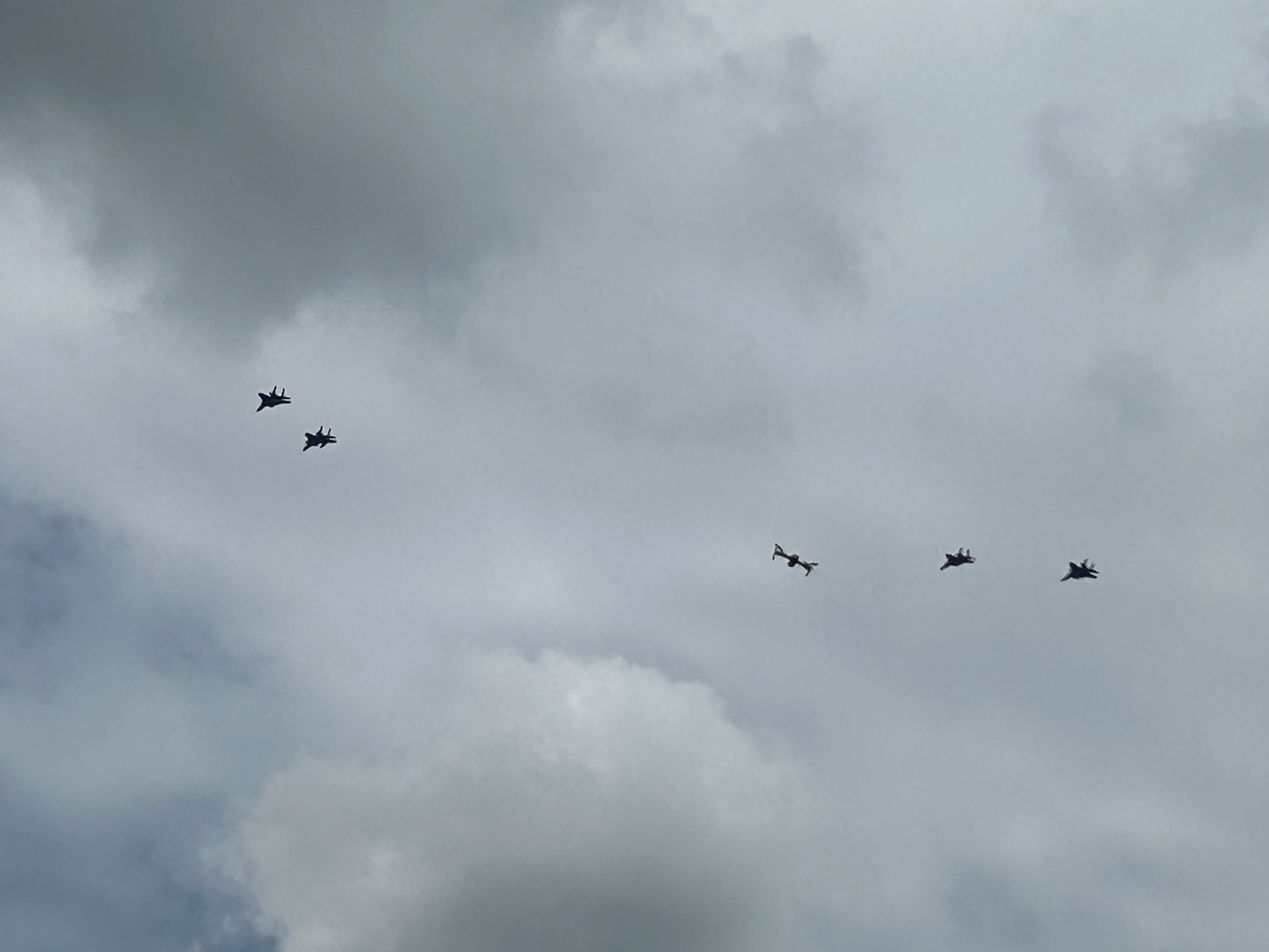drone_other: (771, 541, 820, 578)
